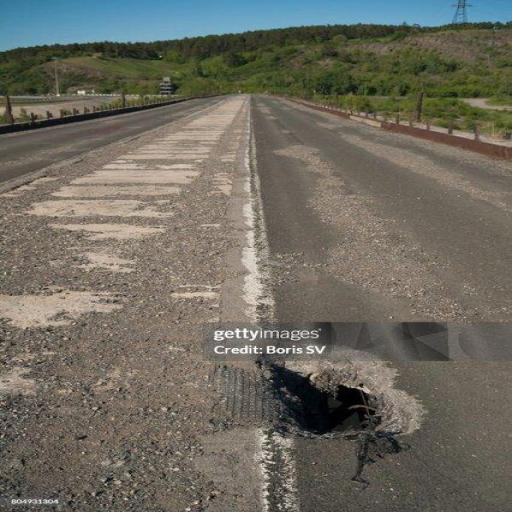Concentric_Crack: (259, 361, 425, 482)
